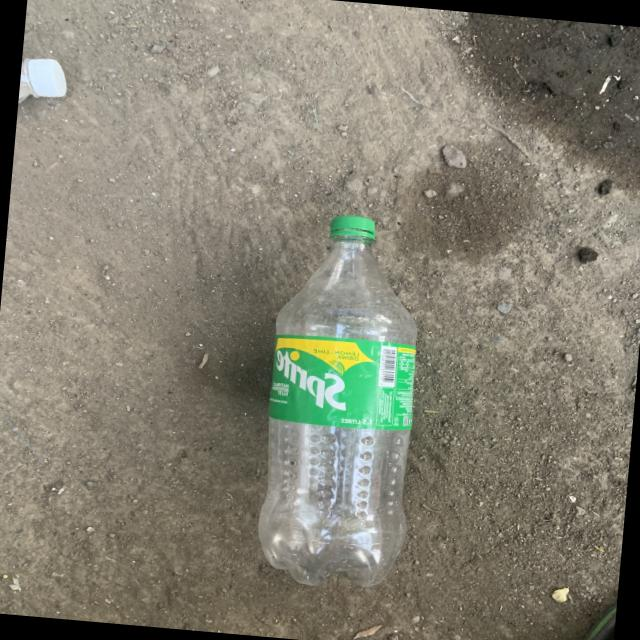Bottle: (258, 216, 416, 586)
